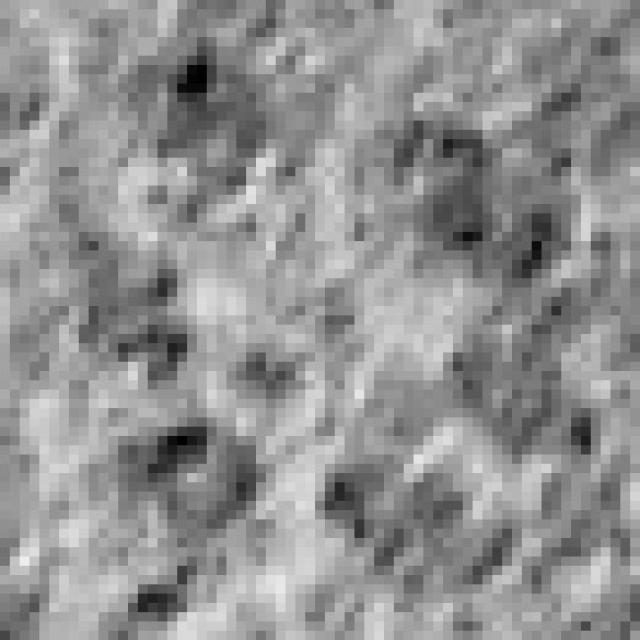inner: (208, 192, 376, 418)
lobe: (345, 102, 579, 293), (88, 416, 284, 622), (151, 25, 341, 232), (317, 461, 523, 612), (441, 275, 603, 462), (38, 232, 201, 401)
outer: (0, 4, 640, 640)
